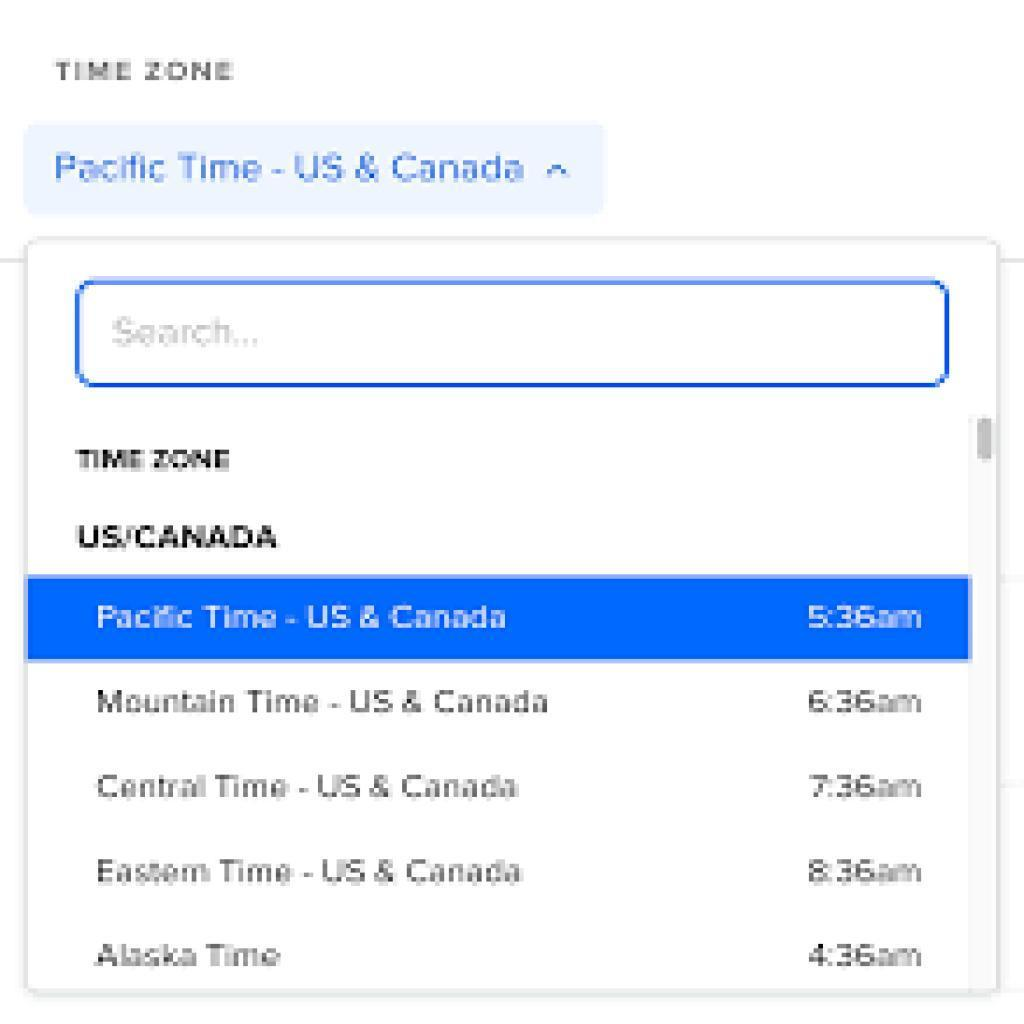dropdown: (31, 123, 589, 224)
input: (77, 278, 951, 390)
